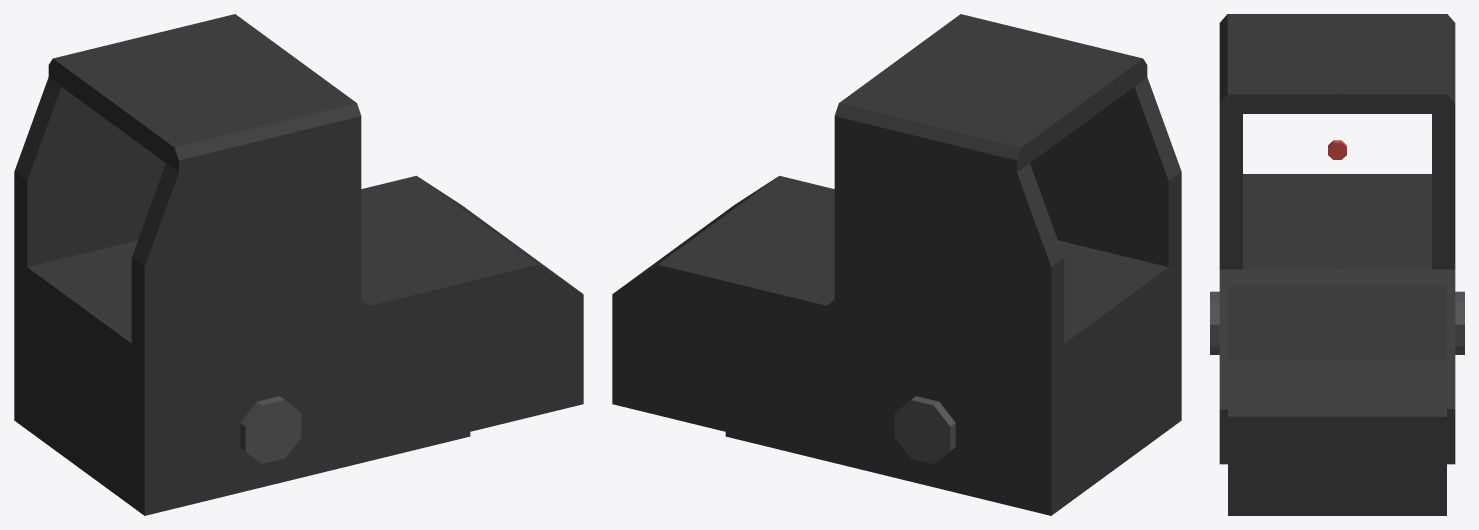
The model's file is Optic_03.fbx.
The picture shows the model from 3 angles, left to right: view 1: azimuth 30°, elevation 25°; view 2: azimuth 150°, elevation 25°; view 3: azimuth 270°, elevation 25°; orthographic projection. The views are drawn at different scales.
Parts seen in each view (by area): view 1: Optic_03; view 2: Optic_03; view 3: Optic_03.
Boxes of the visible parts, box(x1,y1,x2,y2) form: Optic_03: box(14, 14, 583, 515); Optic_03: box(612, 14, 1181, 515); Optic_03: box(1210, 14, 1464, 515).
Bounding box in the file's own units: 0.0535 × 0.0411 × 0.0295.
